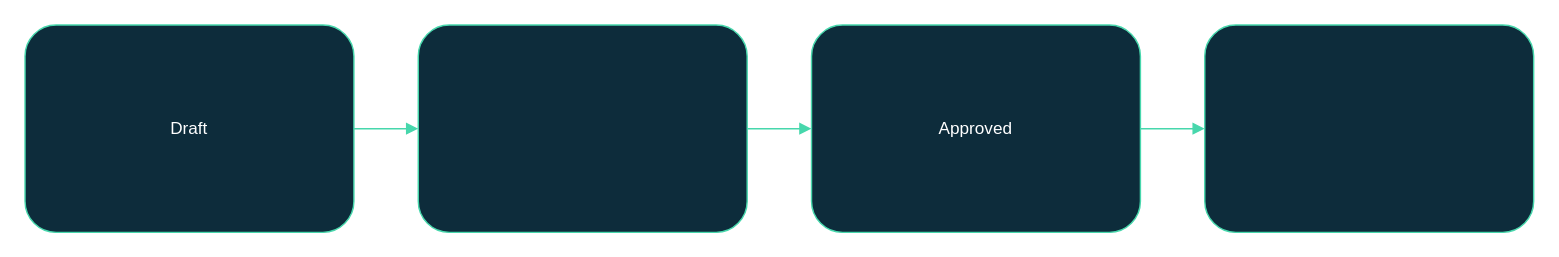
The diagram is 1559 pixels wide and 257 high, and some of its shapes have lost their labels. The shapes that lost their labels are listed below. From the top down, each one's centre as x and y in pixels, then its label:
At (x=582, y=128): "In review".
At (x=1368, y=128): "Published".
